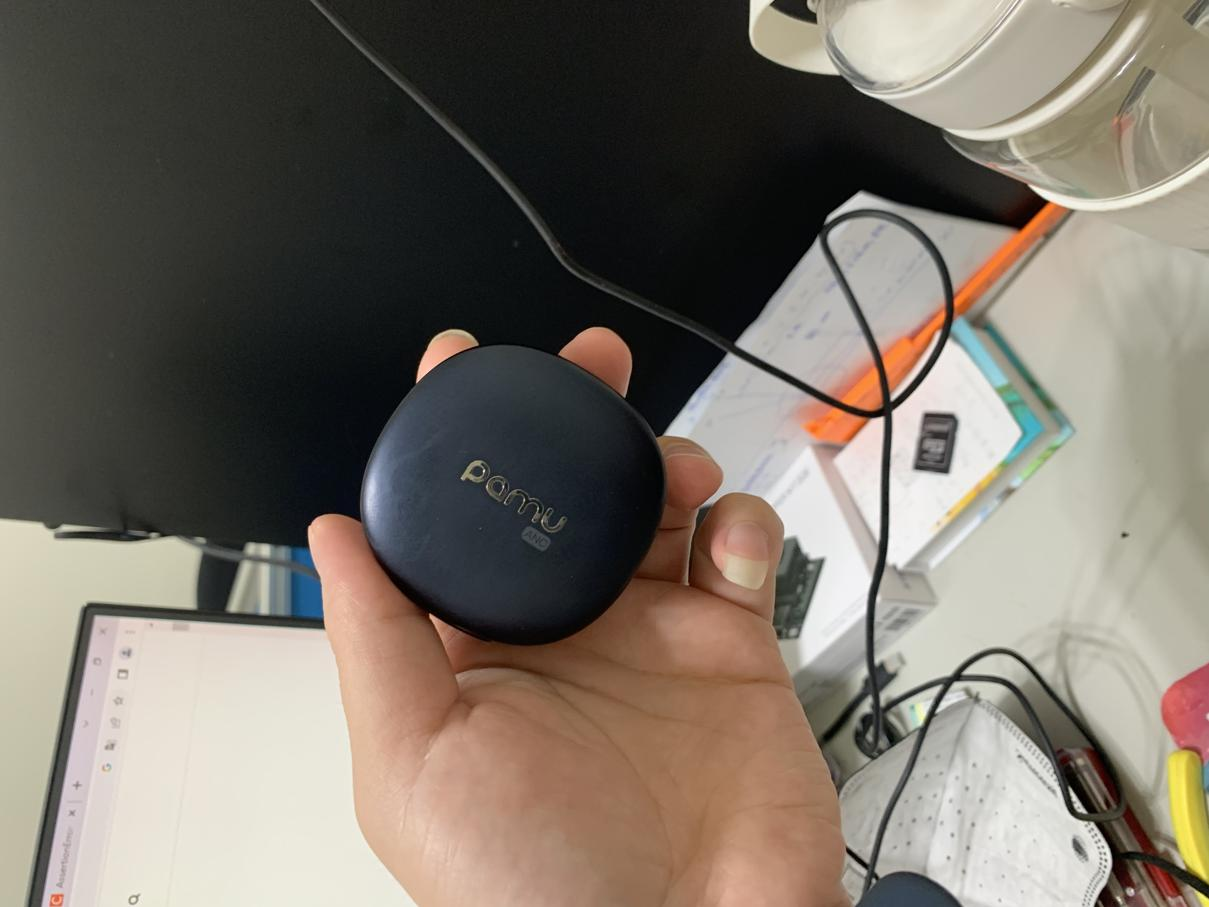pami: (342, 348, 668, 650)
